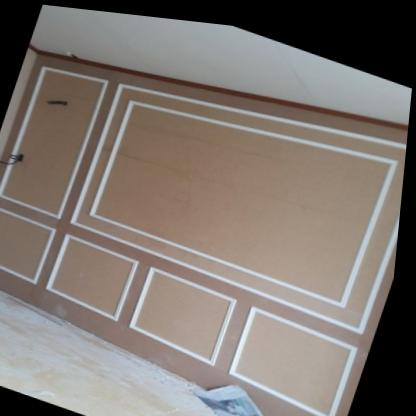Futec frame: (59, 32, 414, 333), (34, 223, 381, 416), (0, 44, 122, 297)
